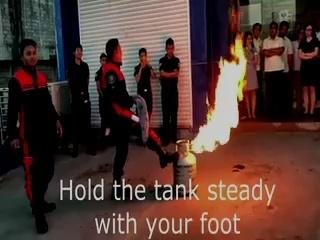Fire: (184, 33, 254, 150)
